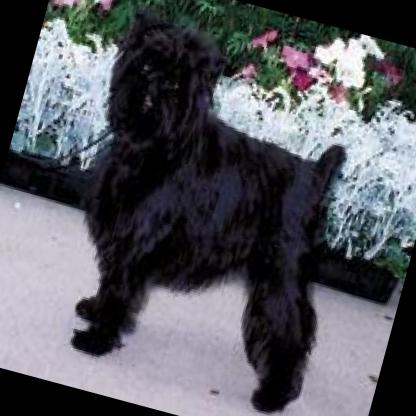affenpinscher: (23, 0, 388, 416)
